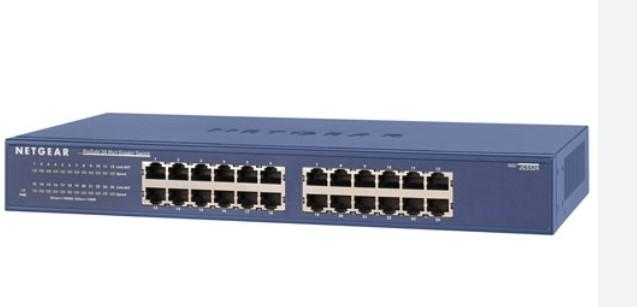NetworkSwitch: (2, 112, 593, 237)
